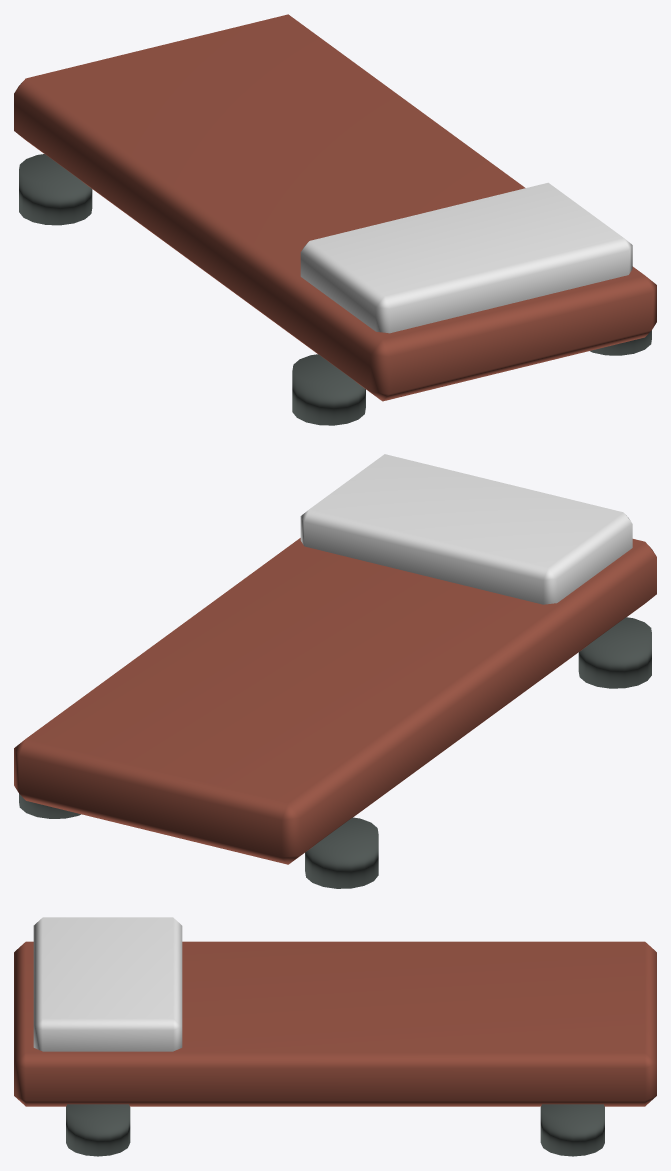
File: MechanicCreeper62.fbx
3 views of the same model, one above another, from view 1: azimuth 30°, elevation 25°; view 2: azimuth 150°, elevation 25°; view 3: azimuth 270°, elevation 25° (orthographic). The views are drawn at different scales.
Parts seen in each view (by area): view 1: MechanicCreeper62; view 2: MechanicCreeper62; view 3: MechanicCreeper62.
Part boxes in pixels (<box>): MechanicCreeper62: <box>14,14,656,425</box>; MechanicCreeper62: <box>14,454,656,888</box>; MechanicCreeper62: <box>14,917,656,1156</box>.
Bounding box in the file's own units: 71 × 25.5 × 130.
